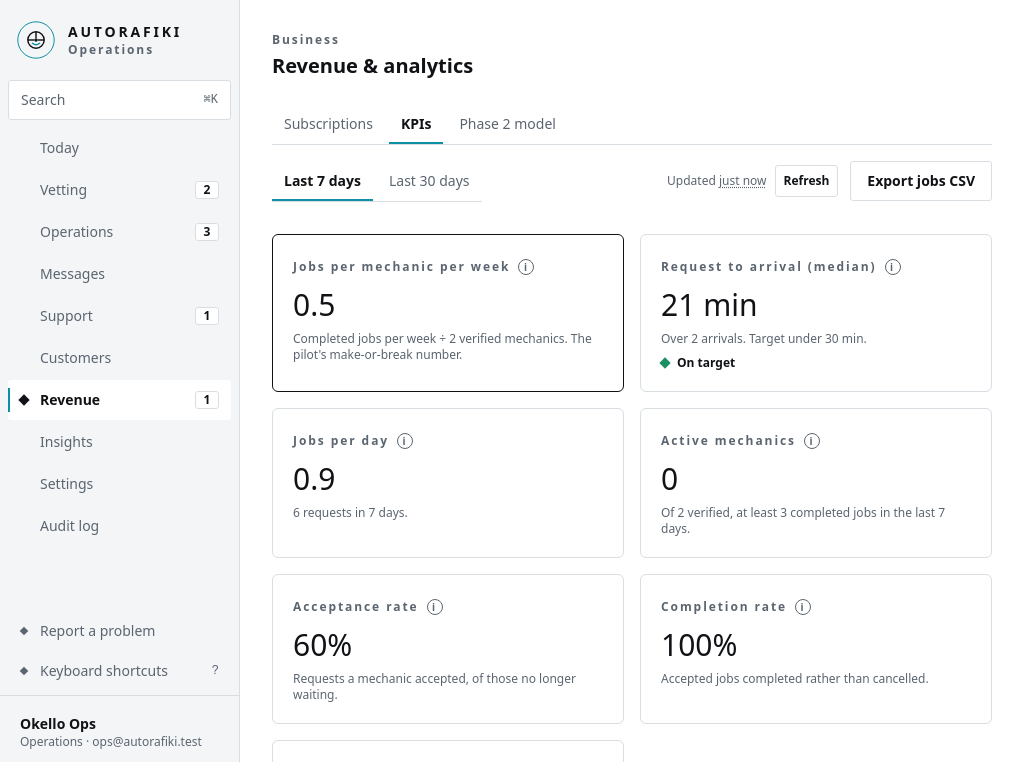
Test: KPIs › shows the seven cards for the window
Expected: the element "Jobs per mechanic per week" is shown, [272,234,624,392]
Expected: the element "Request to arrival (median)" is shown, [640,234,992,392]
Click the button "Last 30 days".
click(429, 181)  # box [377,161,482,201]
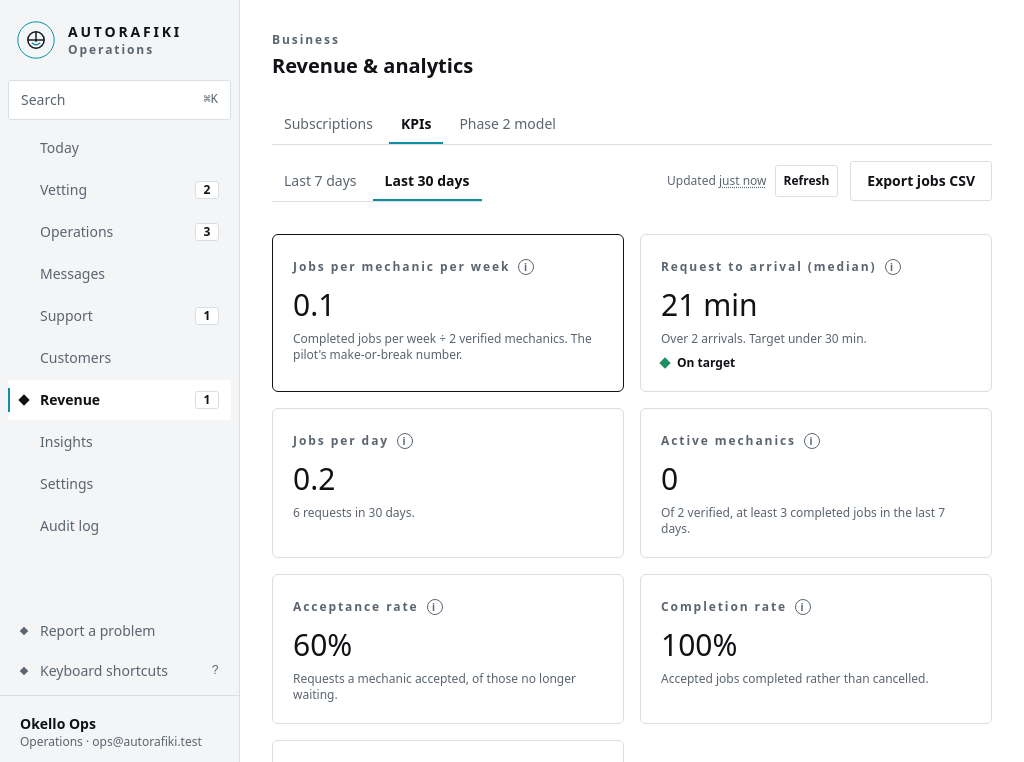
Result: the element "Jobs per day" shows "in 30 days" at [293,504,415,521]
